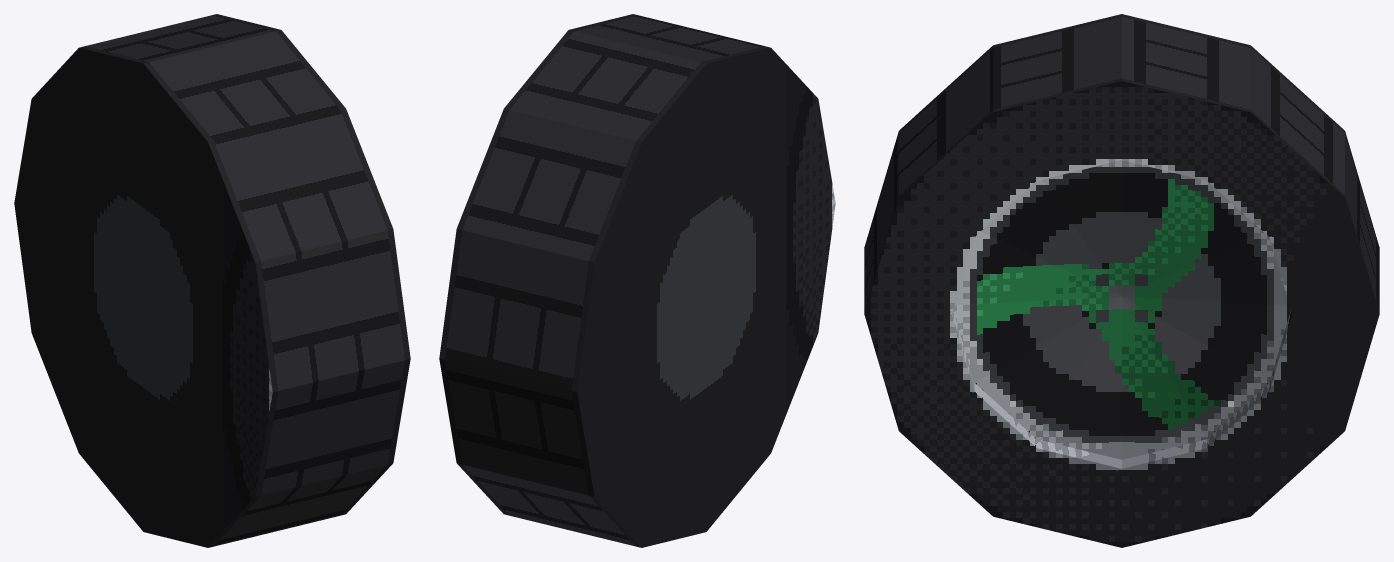
Rendered from wheel_tri.glb.
3 renders of one model, left to right at view 1: azimuth 30°, elevation 25°; view 2: azimuth 150°, elevation 25°; view 3: azimuth 270°, elevation 25°, orthographic.
Visible parts, largest first — view 1: wheel_tri; view 2: wheel_tri; view 3: wheel_tri.
Boxes of the visible parts, left/top/right/bottom form: wheel_tri: left=14, top=14, right=410, bottom=547; wheel_tri: left=439, top=14, right=835, bottom=547; wheel_tri: left=864, top=14, right=1379, bottom=547.
Bounding box in the file's own units: 0.225 × 0.7301 × 0.7301.
1 material, 1 textured.
